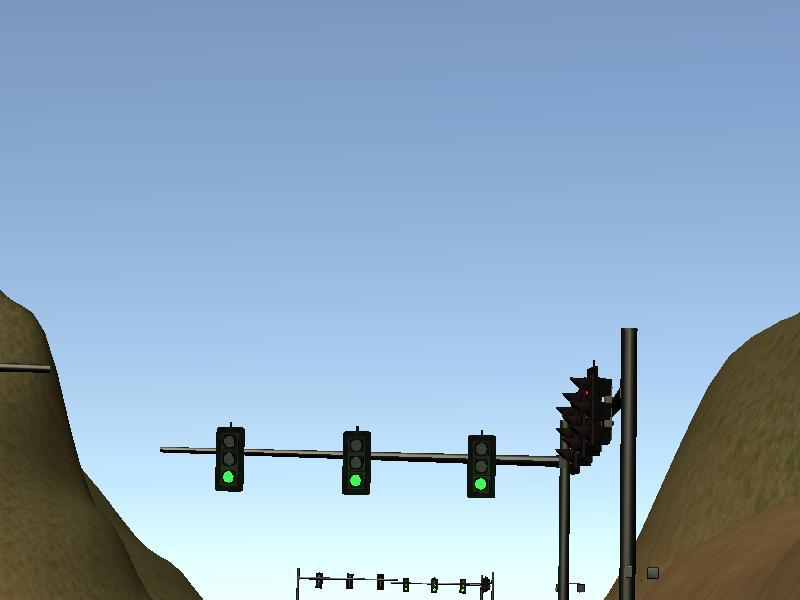Green: (214, 427, 244, 491), (341, 431, 371, 495), (467, 434, 497, 498)
